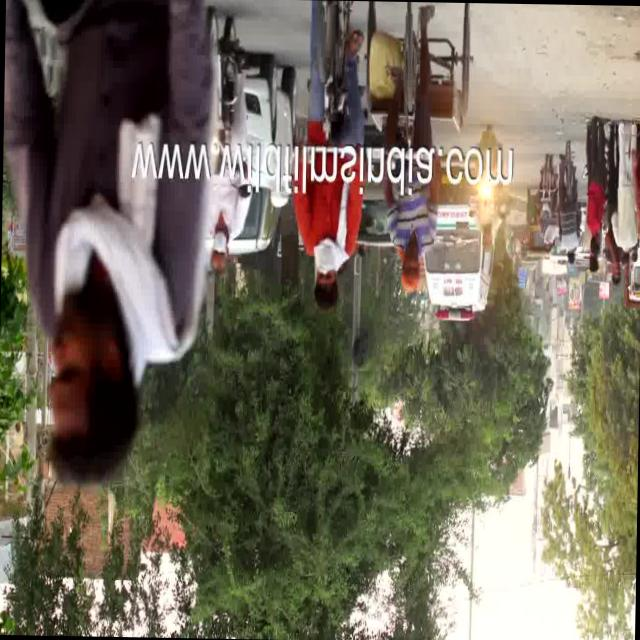ambulance: (424, 198, 509, 337)
